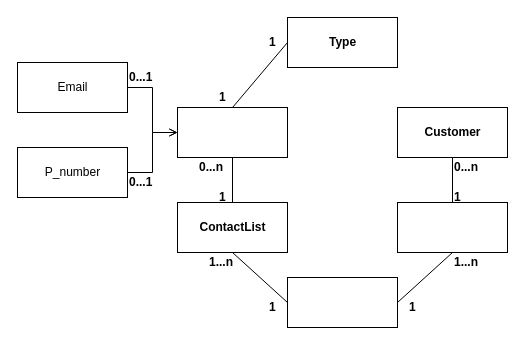
Image size: 525x345. Some labels were removed from this diagram. Each missing label, with the centre of its shape:
"Contact" goes at [232,132].
"CustomerList" goes at [452,227].
"ListAnalyzer" goes at [342,302].
